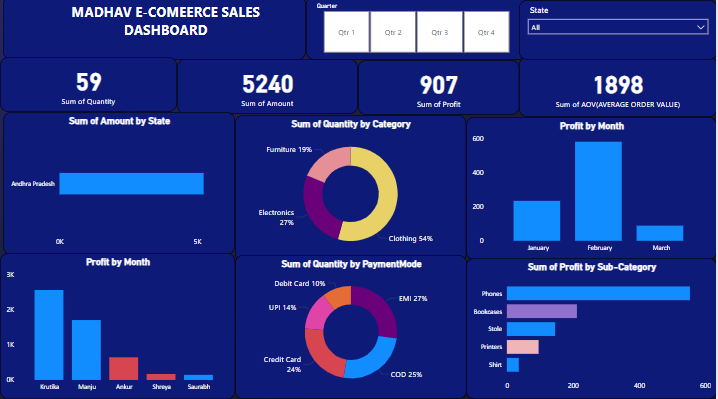

The page's visual inventory and layout, read from the dashboard file:
{"tool":"powerbi","page":{"name":"Page 1","canvas":[1280,720],"ordinal":0},"visuals":[{"type":"textbox","box":[5.3,0,541.5,113.8],"z":0},{"type":"columnChart","title":" Profit by Month","fields":{"Y":["Details.Profit"],"Category":["Orders.Order Date.Variation.Date Hierarchy.Month"]},"box":[832.1,216.1,448.2,255.4],"z":1000},{"type":"barChart","fields":{"Category":["Details.Sub-Category"],"Y":["Details.Profit"]},"box":[832.1,467.9,448.2,251.8],"z":2000},{"type":"donutChart","fields":{"Category":["Details.Category"],"Y":["Details.Quantity"]},"box":[419.6,212.5,412.5,262.5],"z":3000},{"type":"donutChart","fields":{"Category":["Details.PaymentMode"],"Y":["Details.Quantity"]},"box":[419.6,462.5,414.3,257.1],"z":4000},{"type":"card","fields":{"Values":["Details.Quantity"]},"box":[0,108.9,316.1,98.2],"z":5000},{"type":"card","fields":{"Values":["Details.Amount"]},"box":[316.1,112.5,323.2,98.2],"z":6000},{"type":"card","fields":{"Values":["Details.Profit"]},"box":[639.3,114.3,287.5,98.2],"z":7000},{"type":"card","fields":{"Values":["Details.AOV(AVERAGE ORDER VALUE)"]},"box":[926.8,108.9,353.6,107.1],"z":8000},{"type":"barChart","fields":{"Category":["Orders.State"],"Y":["Details.Amount"]},"box":[5.4,207.1,414.3,255.4],"z":9000},{"type":"columnChart","title":" Profit by Month","fields":{"Y":["Details.Amount"],"Category":["Orders.CustomerName"]},"box":[0,458.9,419.6,260.7],"z":10000},{"type":"slicer","fields":{"Values":["Orders.Order Date.Variation.Date Hierarchy.Quarter"]},"box":[546.4,0,392.9,114.3],"z":11000},{"type":"slicer","fields":{"Values":["Orders.State"]},"box":[926.8,7.1,353.6,107.1],"z":12000}]}

Visuals, with their boxes in screenshot pixels (x1, y1, x2, y2), scaled from the page's 1280x720 canvas onto the 718x399 screenshot:
textbox: [3,0,307,63]
" Profit by Month" columnChart: [467,120,717,261]
barChart - Details.Sub-Category x Details.Profit: [467,259,717,398]
donutChart - Details.Category x Details.Quantity: [235,118,467,263]
donutChart - Details.PaymentMode x Details.Quantity: [235,256,468,398]
card - Details.Quantity: [0,60,177,115]
card - Details.Amount: [177,62,359,117]
card - Details.Profit: [359,63,520,118]
card - Details.AOV(AVERAGE ORDER VALUE): [520,60,717,120]
barChart - Orders.State x Details.Amount: [3,115,235,256]
" Profit by Month" columnChart: [0,254,235,398]
slicer - Orders.Order Date.Variation.Date Hierarchy.Quarter: [306,0,527,63]
slicer - Orders.State: [520,4,717,63]
